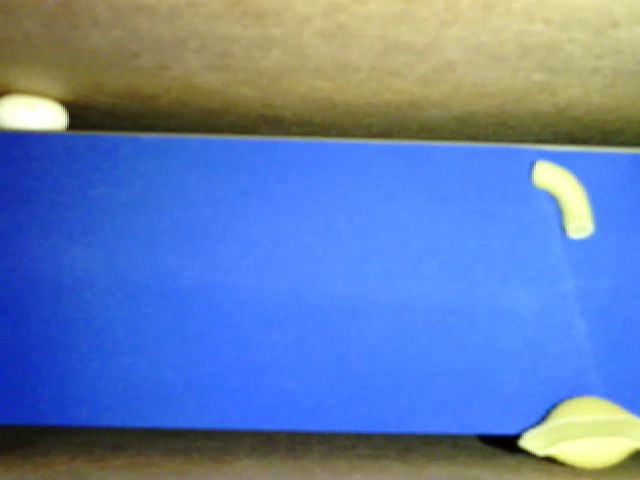elbow: (530, 158, 596, 237)
shell: (517, 395, 639, 468)
